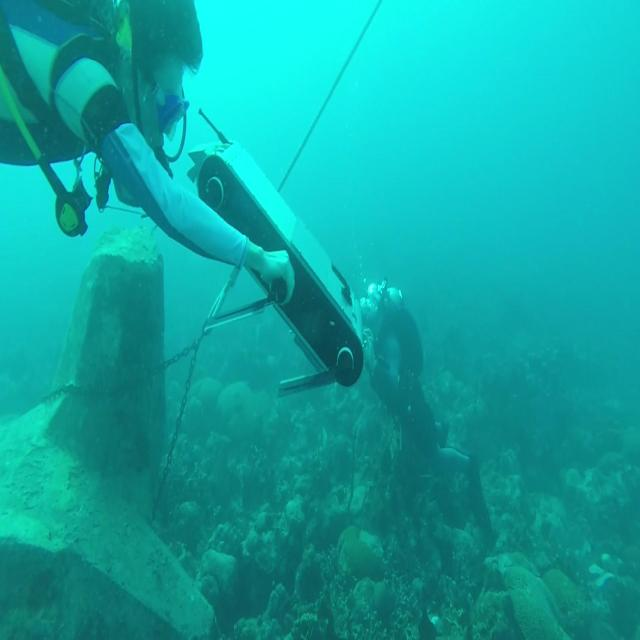human: (0, 0, 296, 311), (358, 278, 496, 550)
